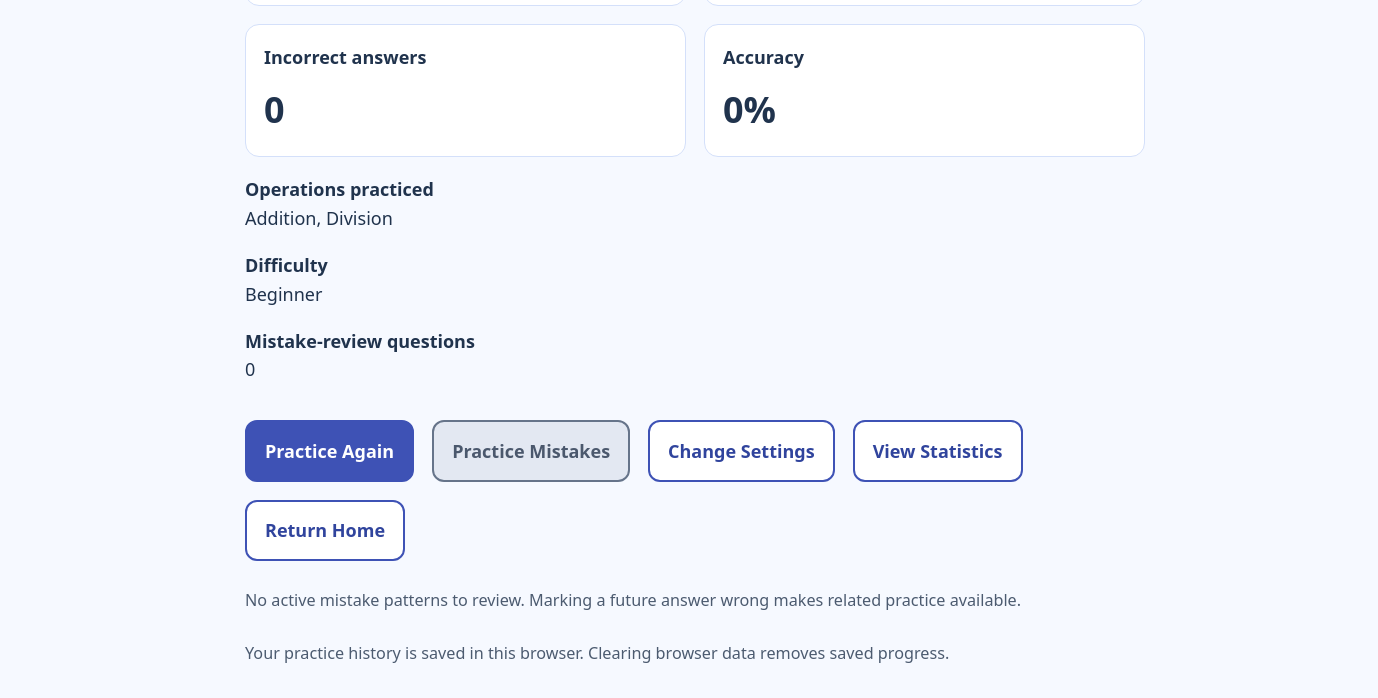
Scenario: practice flow › navigates from a valid summary to setup and home
(page scrolled)
Click the link "Change Settings" at x=741, y=451, box [648, 420, 835, 482]
(page scrolled)
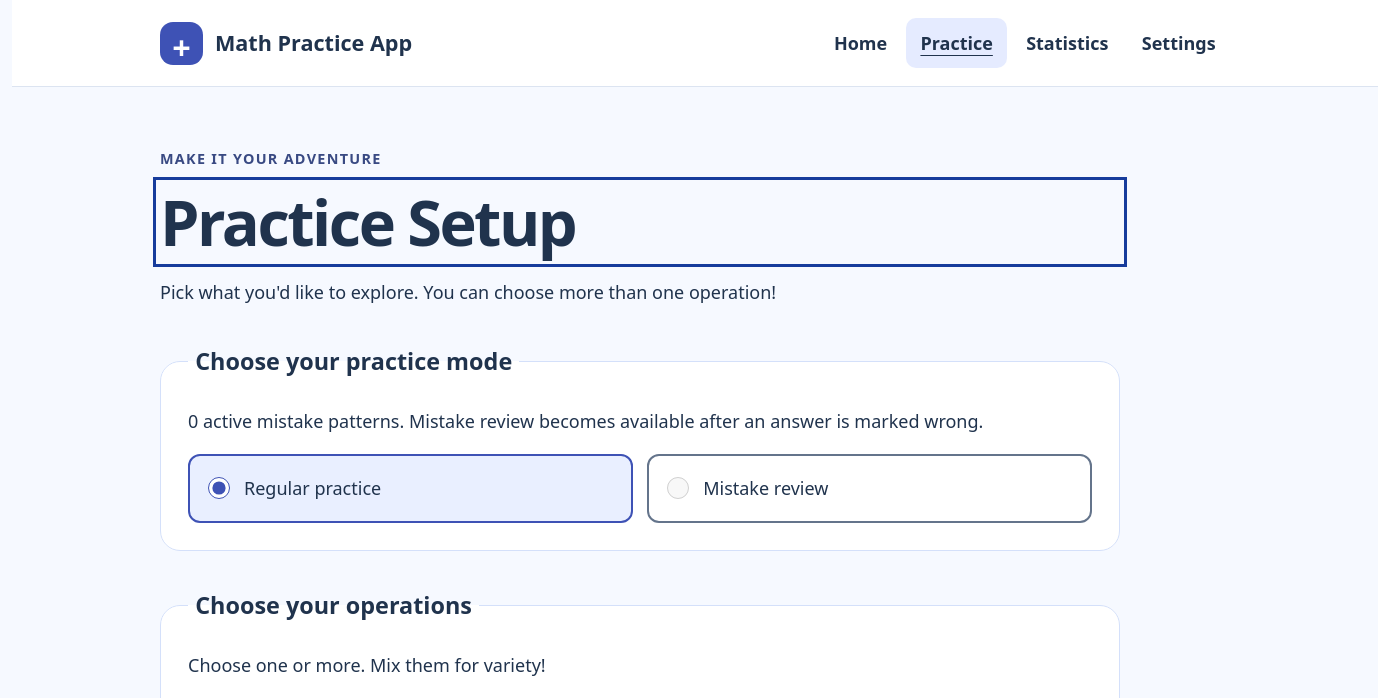
Result: the heading "Practice Setup" is shown at [160, 179, 575, 264]
Click the link "Home" at x=860, y=43, box [834, 31, 887, 55]
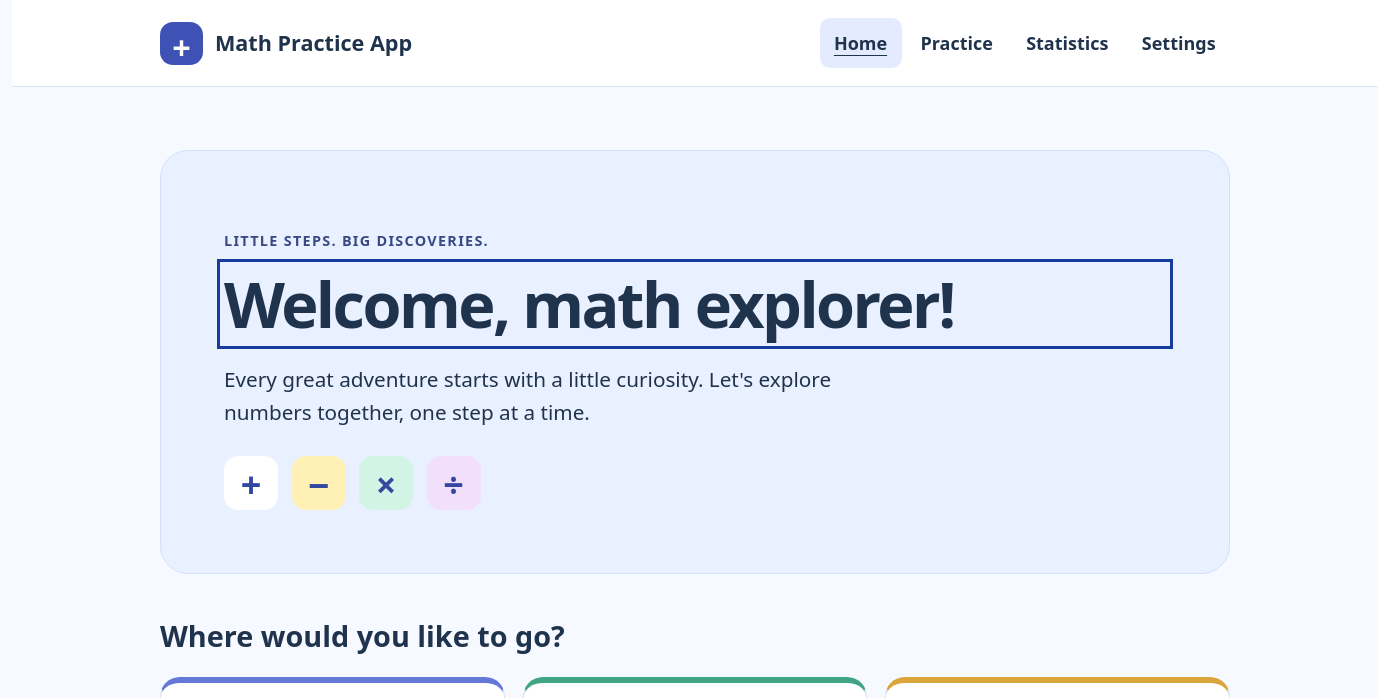
Result: the heading "Welcome, math explorer!" is shown at [224, 261, 954, 346]
